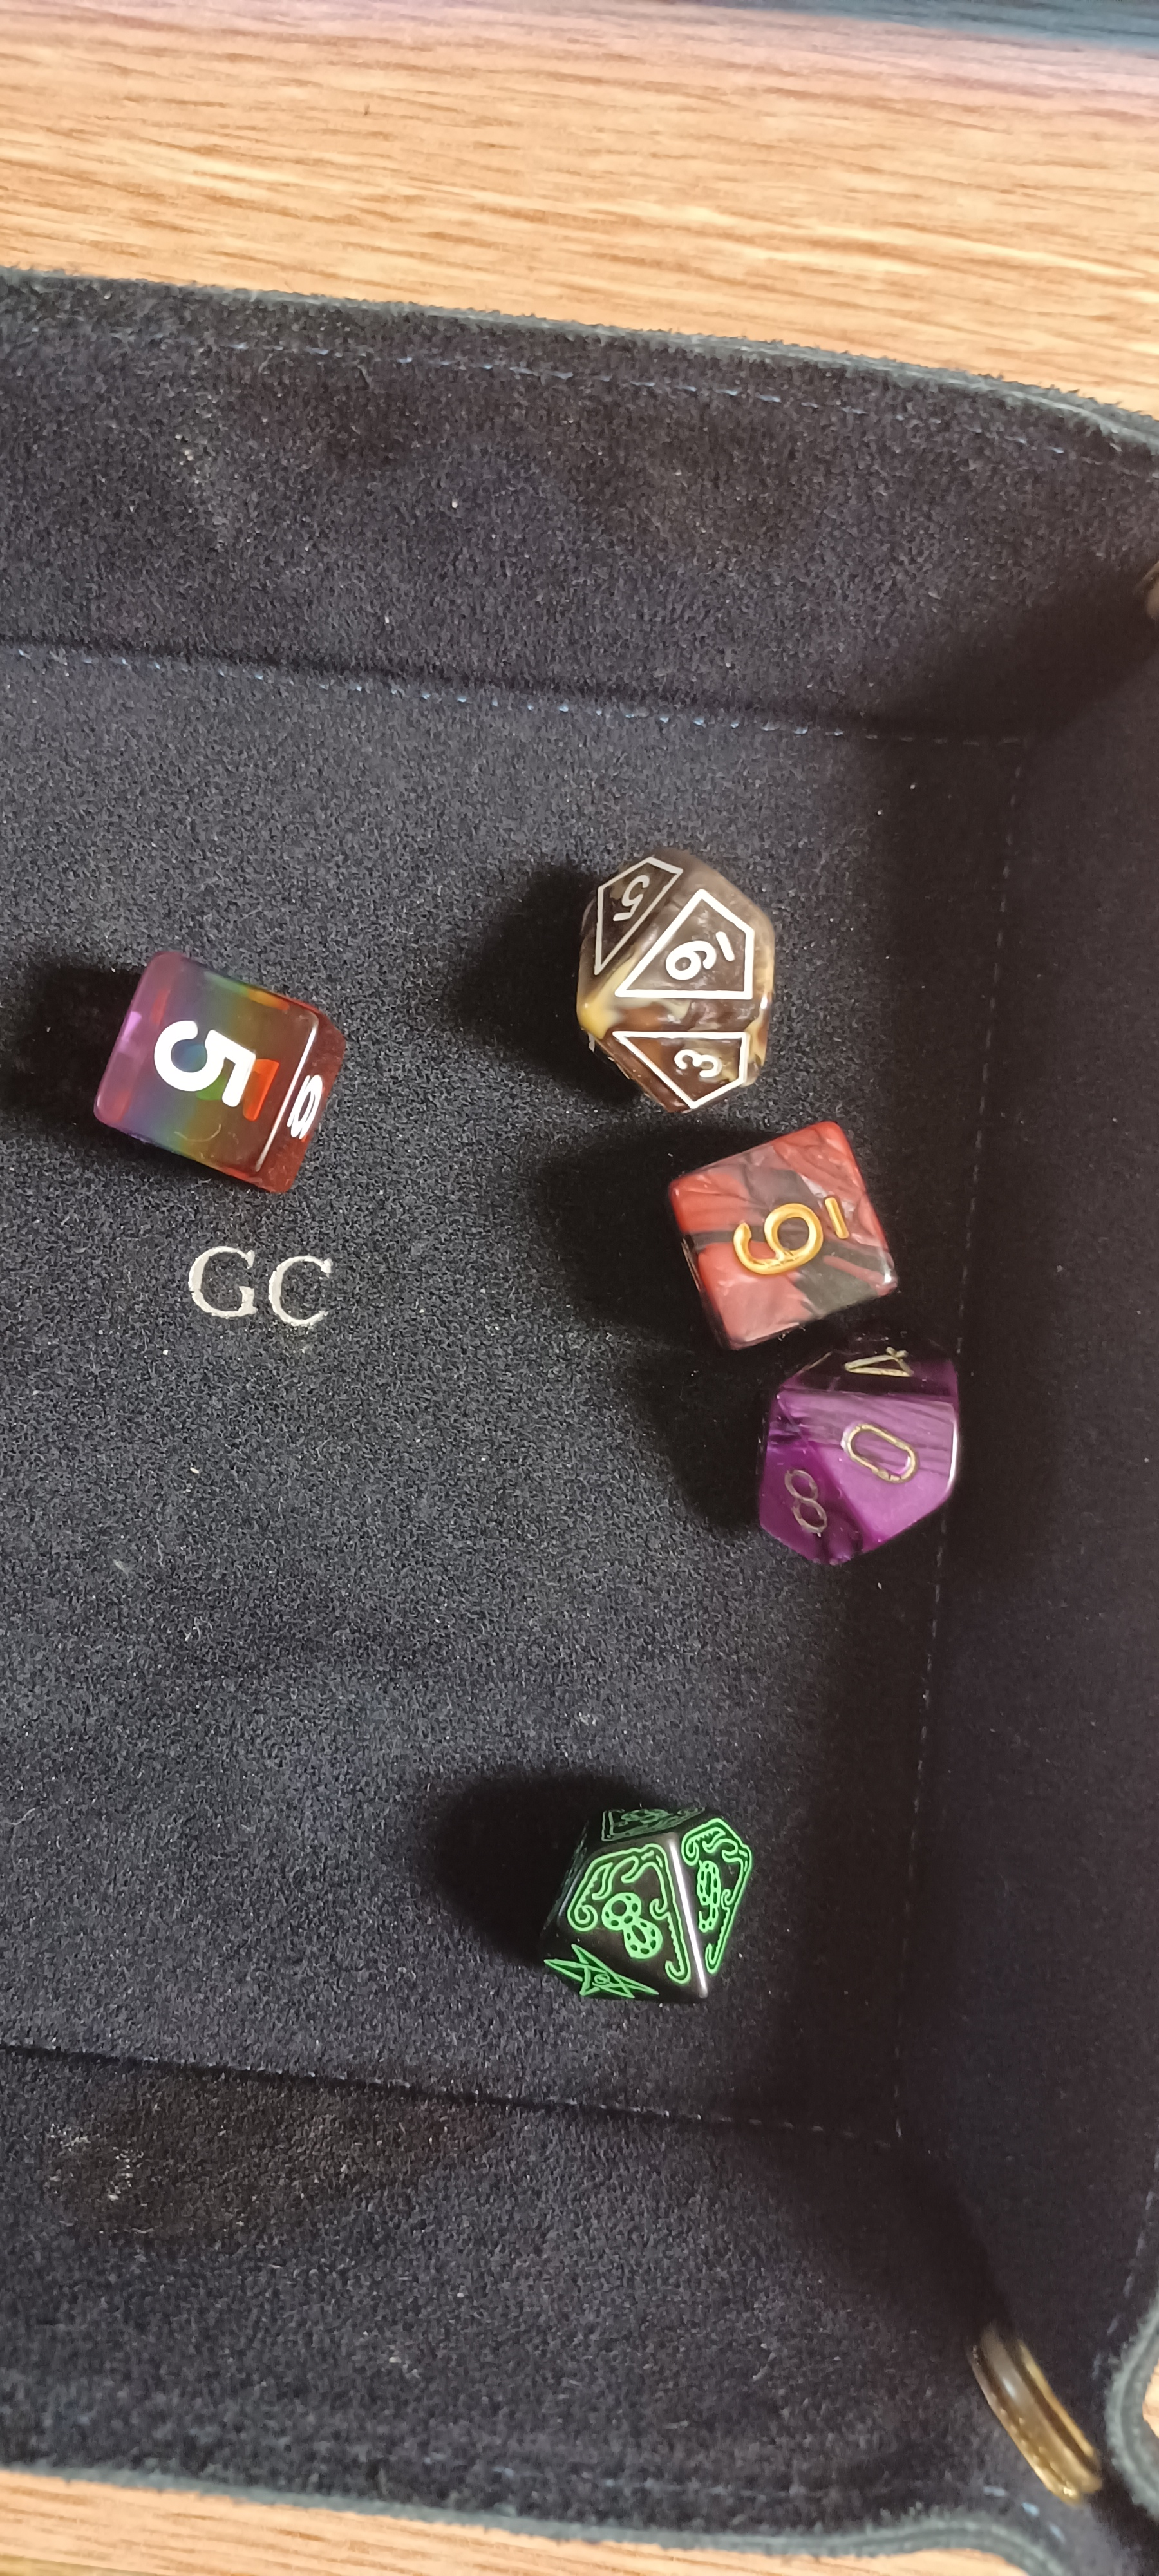eight: (511, 1779, 776, 2044)
five: (69, 923, 368, 1221)
nine: (543, 816, 785, 1138)
six: (639, 1109, 936, 1365)
zero: (721, 1337, 1003, 1590)
